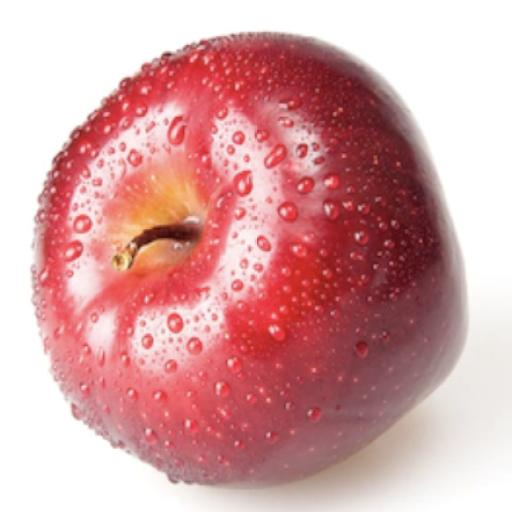apple: (33, 34, 465, 486)
